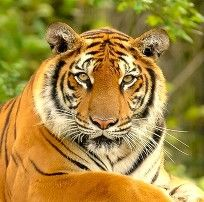cat: (1, 20, 203, 202)
